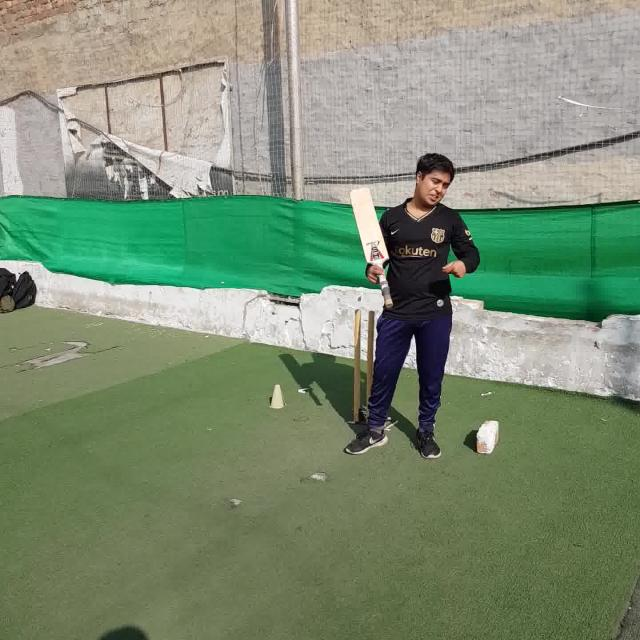bat: (349, 188, 394, 308)
